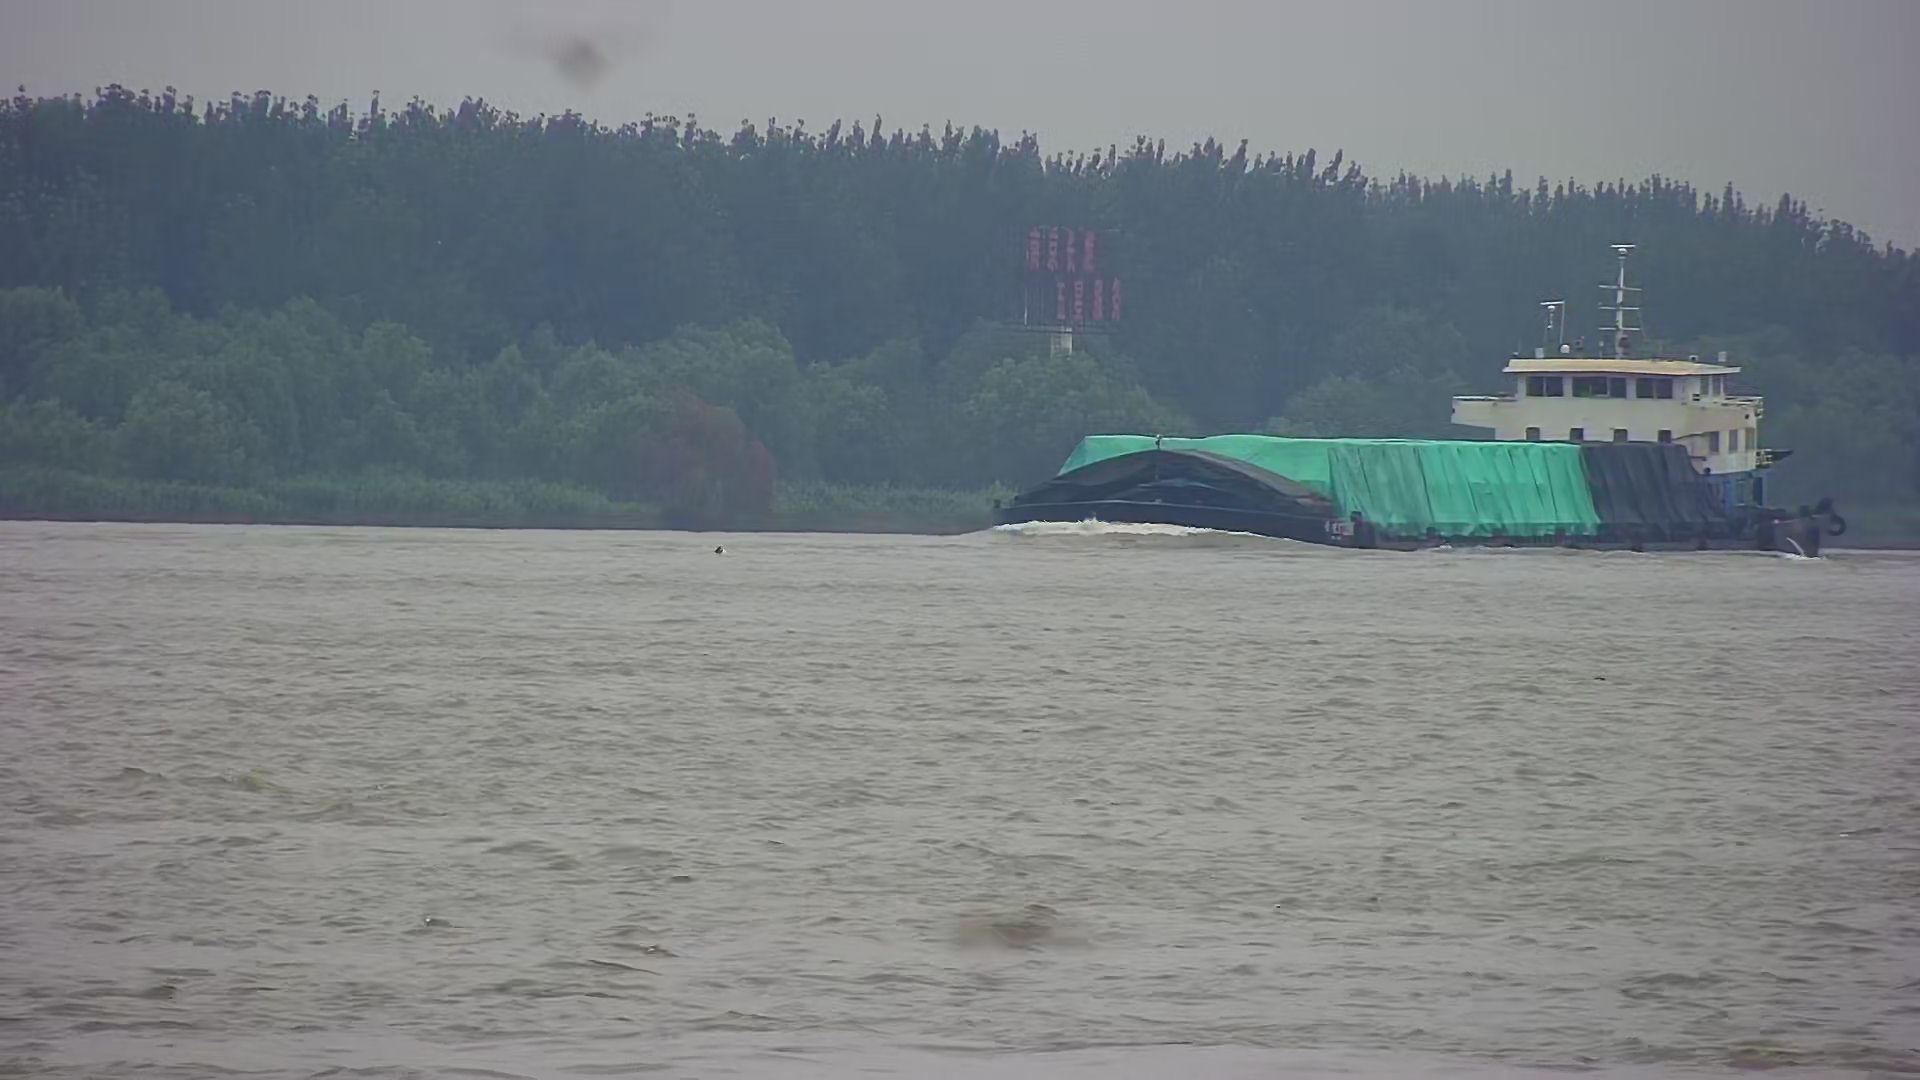ship: (969, 287, 1851, 559)
